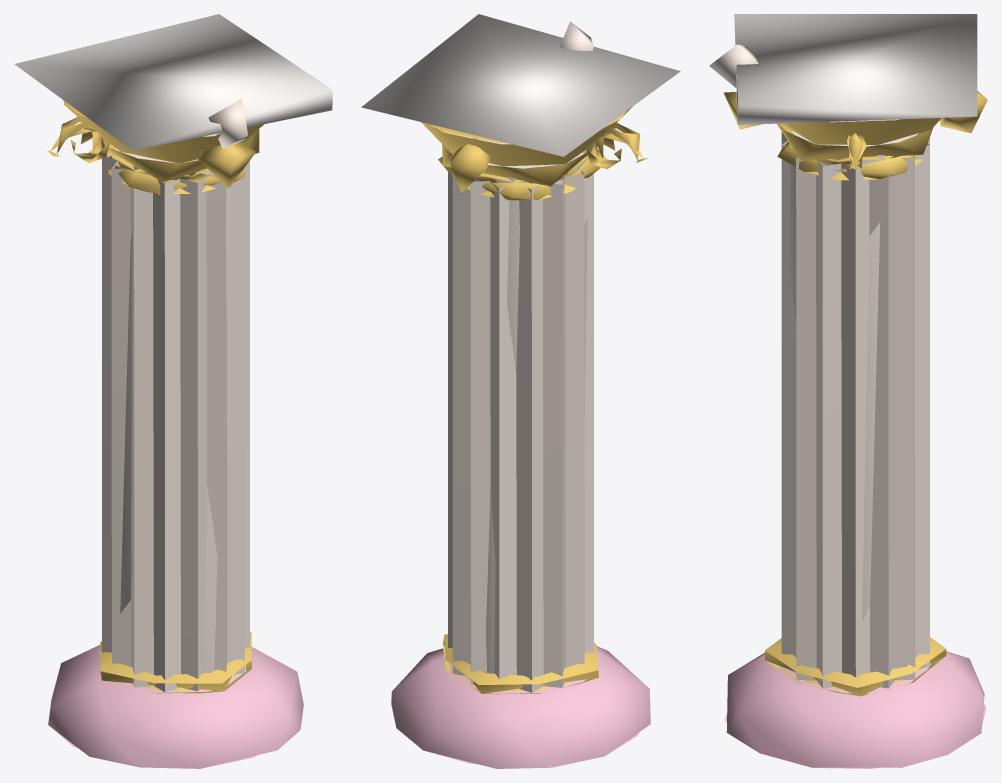
Rendered from lod_column_rococo.glb.
3 renders of one model, left to right at view 1: azimuth 30°, elevation 25°; view 2: azimuth 150°, elevation 25°; view 3: azimuth 270°, elevation 25°, orthographic. The views are drawn at different scales.
Parts seen in each view (by area): view 1: column_rococo; view 2: column_rococo; view 3: column_rococo.
Part boxes in pixels (left/top/right/bottom): column_rococo: left=14, top=14, right=332, bottom=768; column_rococo: left=361, top=14, right=680, bottom=768; column_rococo: left=709, top=14, right=987, bottom=768.
Bounding box in the file's own units: 1.43 × 3.55 × 1.33.
